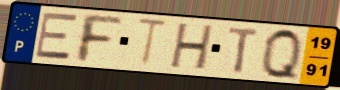E: (34, 12, 80, 61)
F: (76, 11, 125, 65)
H: (167, 22, 217, 72)
Q: (261, 26, 304, 83)
T: (135, 16, 171, 70), (226, 26, 262, 75)
